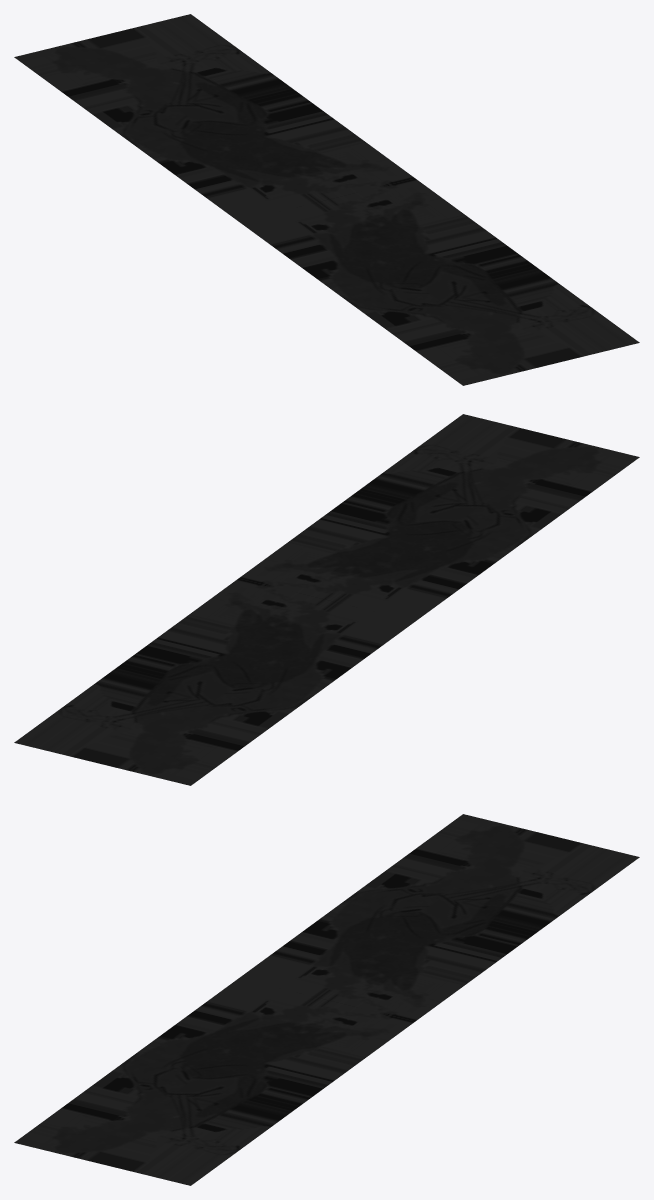
Rendered from PPX_PPL.fbx.
3 renders of one model, top to bottom at view 1: azimuth 30°, elevation 25°; view 2: azimuth 150°, elevation 25°; view 3: azimuth 330°, elevation 25°, orthographic.
Visible parts, largest first — view 1: PPL.png, PPL.png_2; view 2: PPL.png, PPL.png_2; view 3: PPL.png, PPL.png_2.
Part boxes in pixels (x1,y1,x2,y2): PPL.png: [239, 178, 639, 385]; PPL.png_2: [14, 14, 414, 221]; PPL.png: [239, 414, 639, 621]; PPL.png_2: [14, 578, 414, 785]; PPL.png: [14, 978, 414, 1185]; PPL.png_2: [239, 814, 639, 1021].
Bounding box in the file's own units: 290 × 1276 × 0.
1 material, 1 textured.
